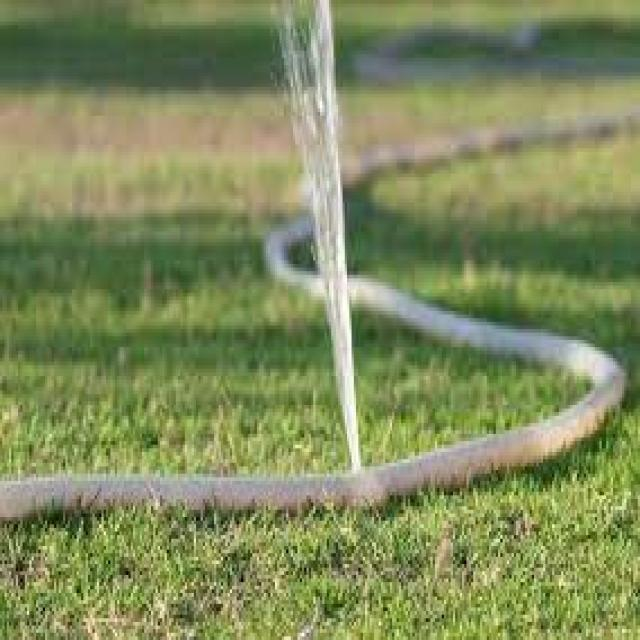pipe burst: (267, 0, 367, 474)
